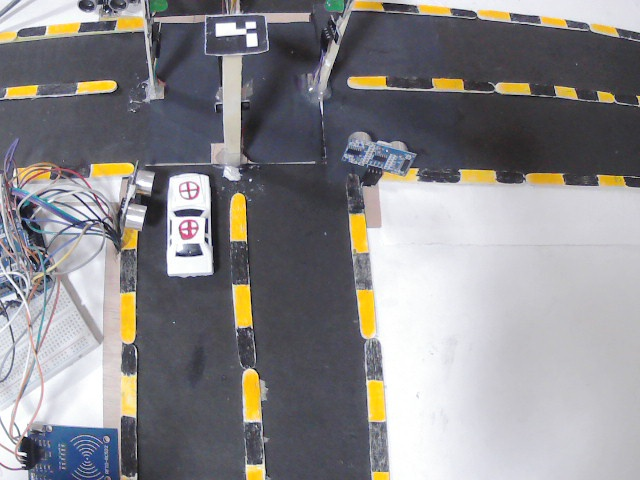aruco_marker: (204, 14, 271, 56)
emergency_vehicle: (166, 176, 216, 275)
traffic_light: (143, 0, 179, 30), (325, 0, 354, 23)
uno_breadboard: (0, 197, 100, 406), (2, 418, 118, 480), (114, 160, 184, 238), (342, 133, 417, 174), (73, 0, 132, 17)
